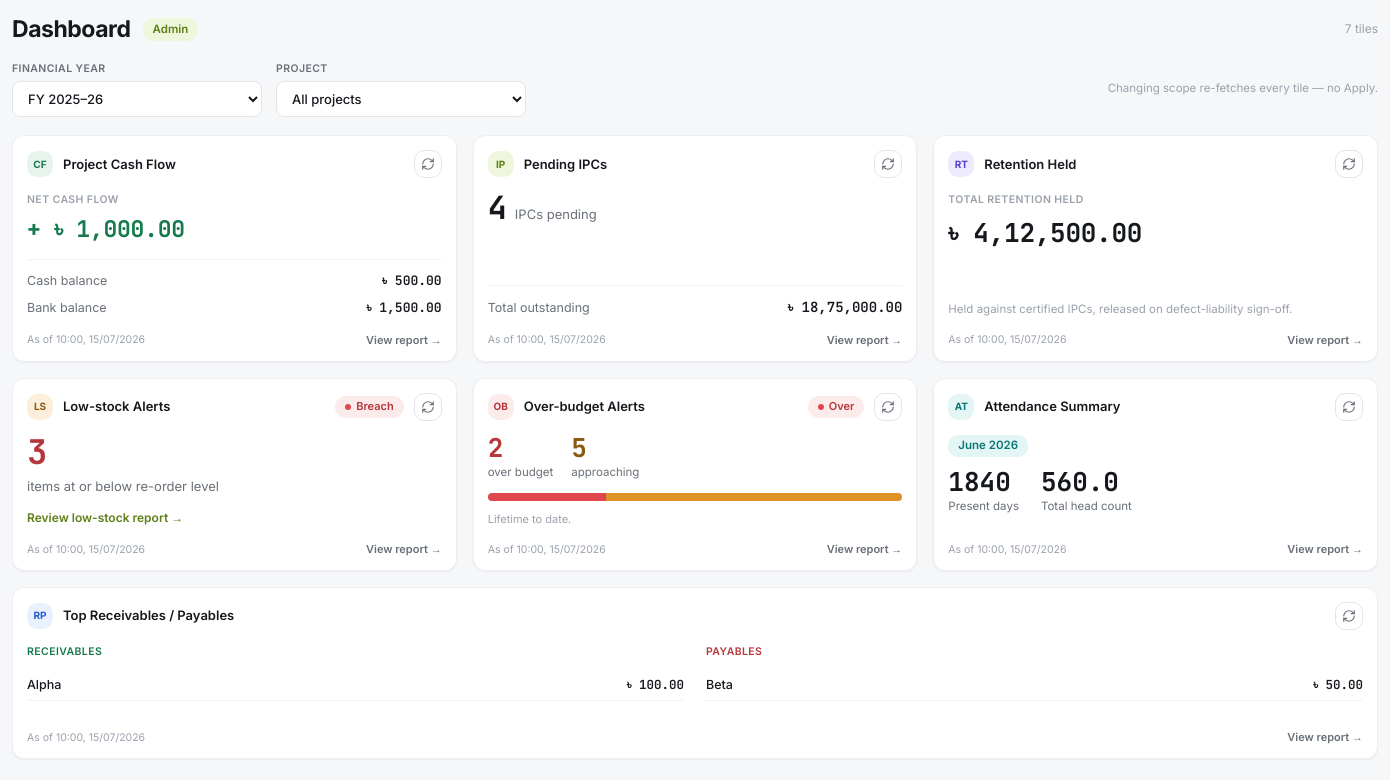
Test: Per-tile refresh (FR-DSH-005) › A per-tile refresh 403 renders the inline forbidden card, neighbours unaffected
Click the button with test id "tile-low-stock-refresh": [428, 406] box [414,392,442,420]
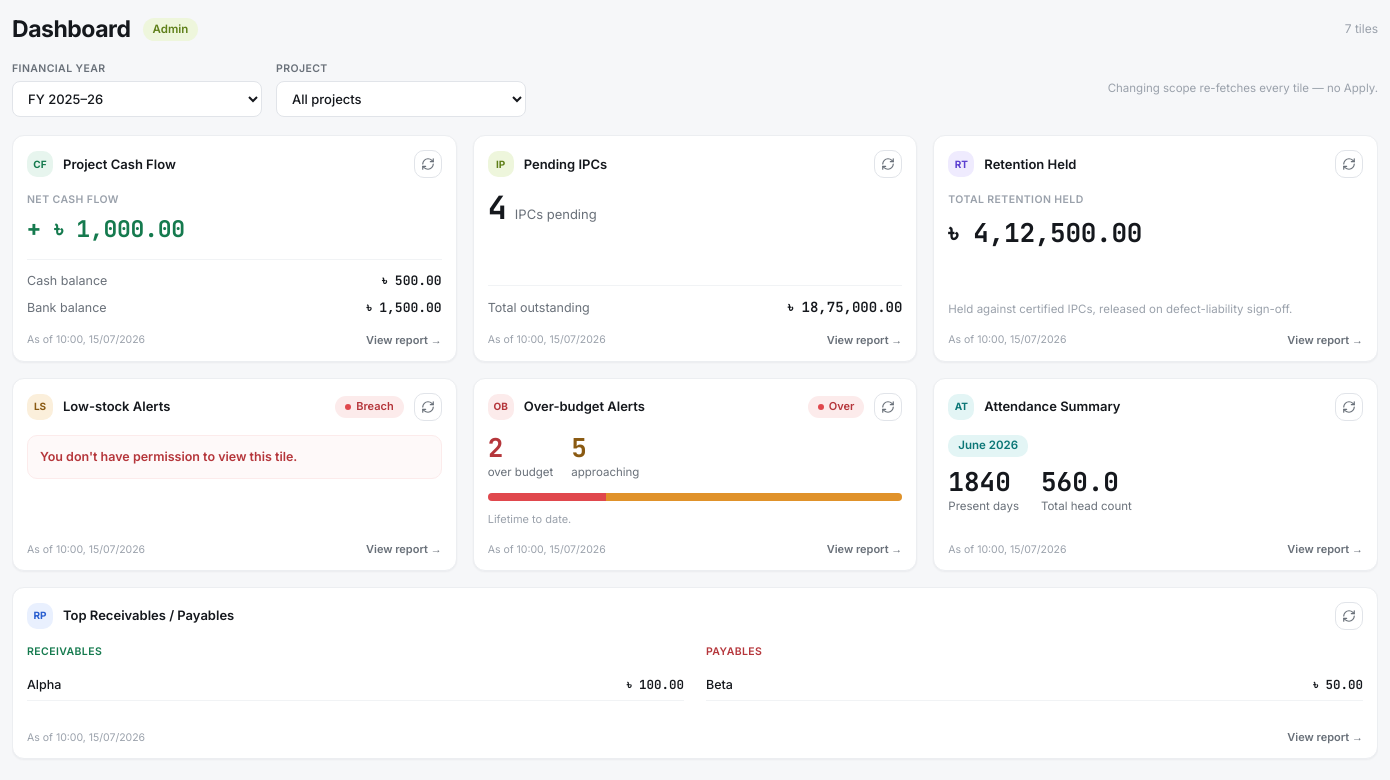
Check: the element with test id "tile-project-cash-flow" is shown, box [12,135,457,362]
Check: the text "You don't have permission to view this tile." is shown, box [40,448,297,464]
